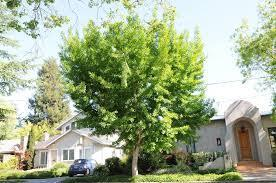tree: (58, 6, 203, 175)
